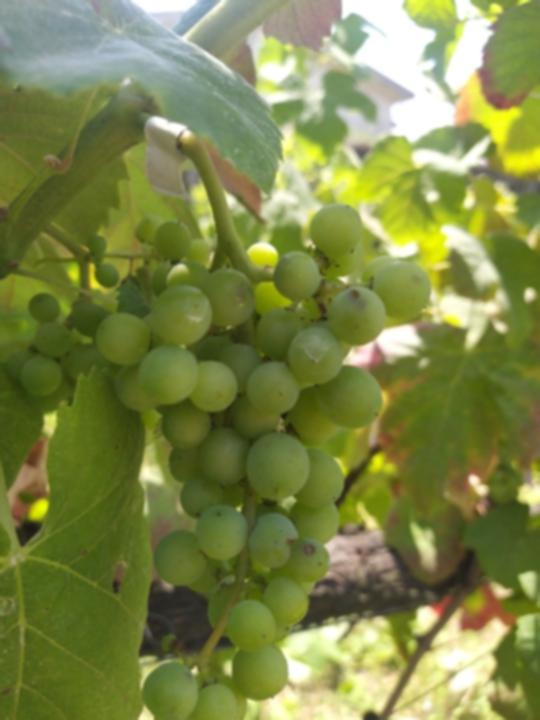grape: (90, 200, 432, 716)
